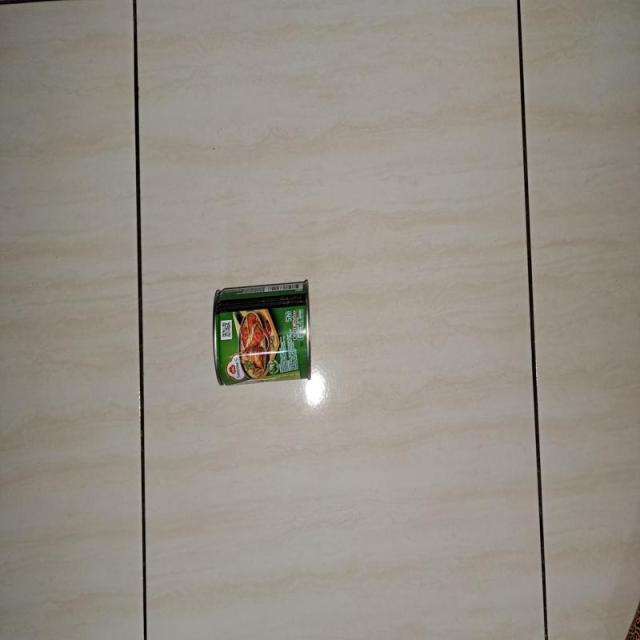Anorganik: (197, 275, 323, 399)
